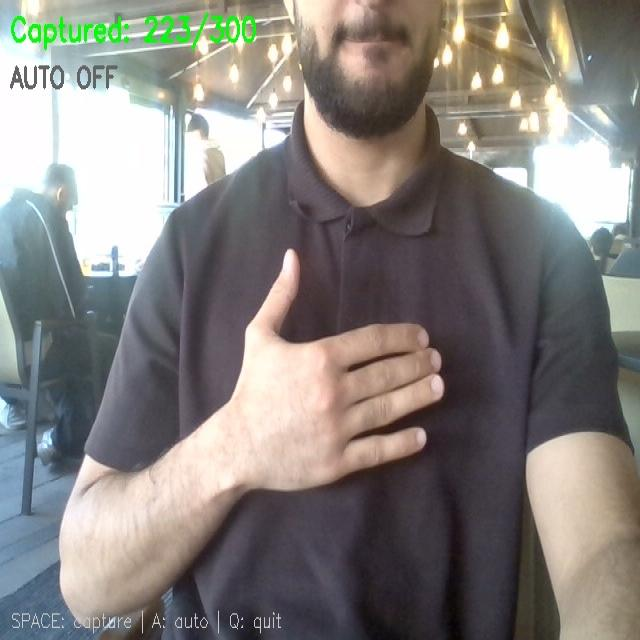Hand: (226, 250, 443, 490)
